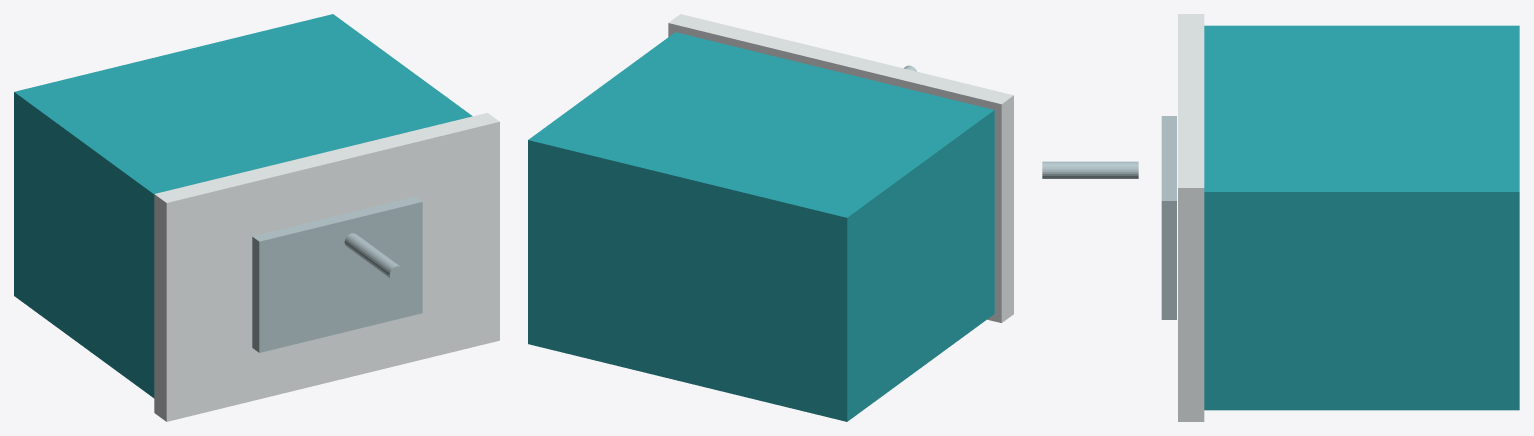
The model's file is bath-vanity-sink.glb.
The picture shows the model from 3 angles, left to right: view 1: azimuth 30°, elevation 25°; view 2: azimuth 150°, elevation 25°; view 3: azimuth 270°, elevation 25°; orthographic projection. The views are drawn at different scales.
Visible parts, largest first — view 1: world; view 2: world; view 3: world.
Part boxes in pixels (bbox=[...]): world: bbox=[14, 14, 499, 421]; world: bbox=[528, 14, 1013, 421]; world: bbox=[1042, 14, 1519, 421].
Size of the model in its own units: 0.94 by 0.59 by 1.09.
